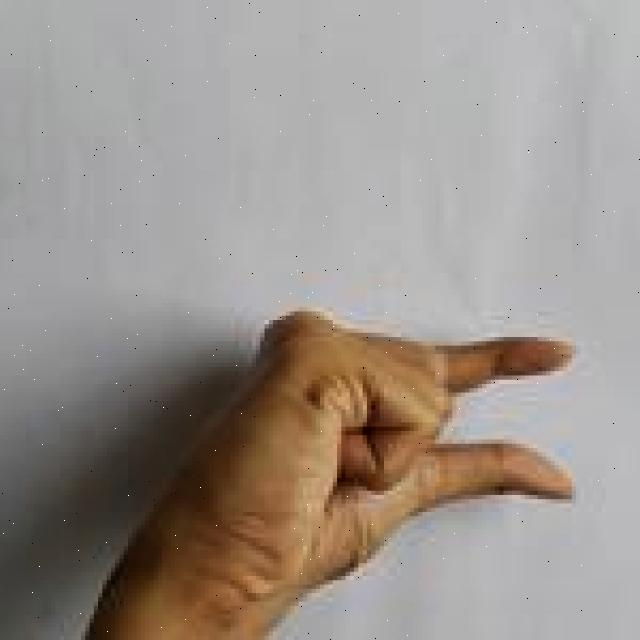G: (81, 304, 583, 640)
